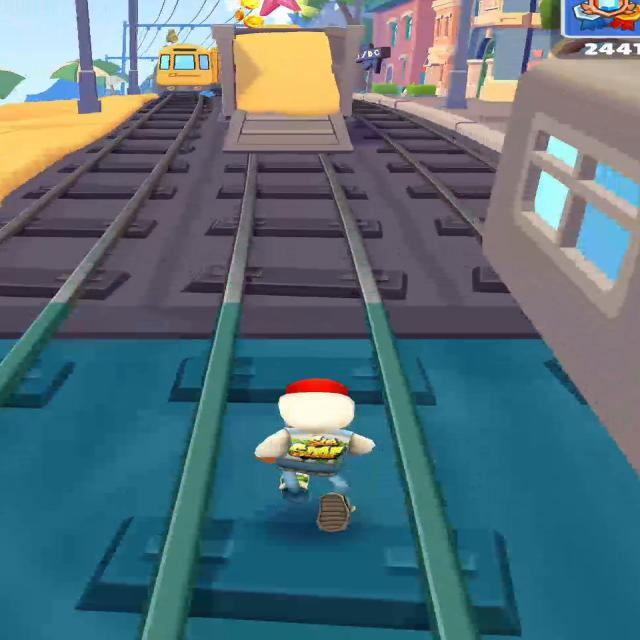climber: (225, 29, 343, 152)
train: (484, 54, 639, 473), (154, 43, 221, 94)
